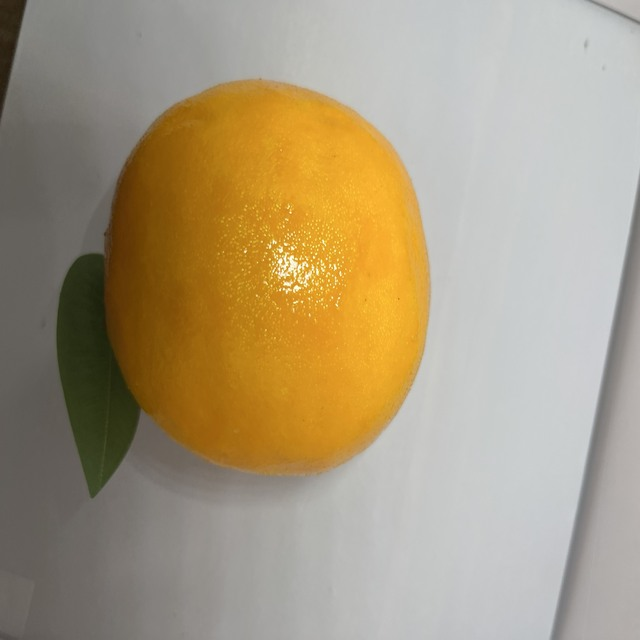Cam vang: (80, 80, 437, 482)
